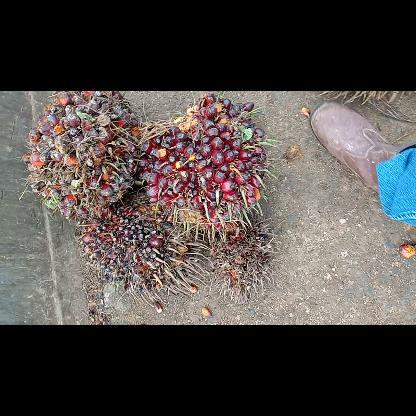TBS abnormal: (73, 192, 212, 308), (204, 214, 276, 304)
TBS masak: (137, 92, 275, 246), (20, 91, 140, 223)
